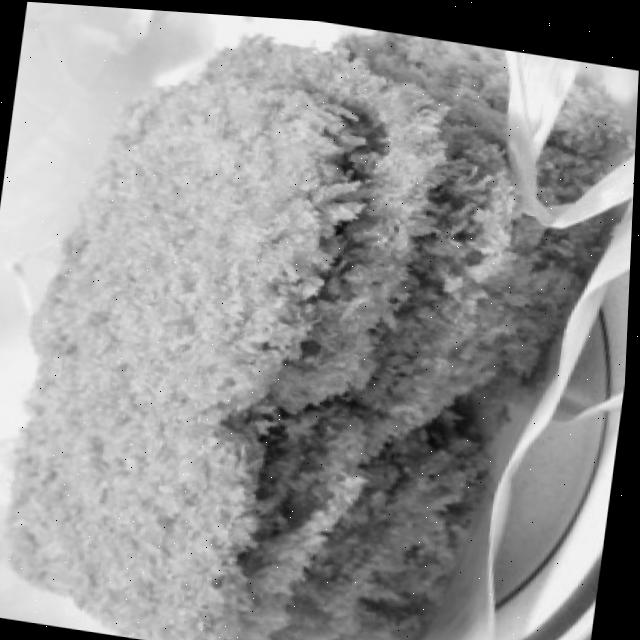炸货点心: (0, 2, 624, 640)
